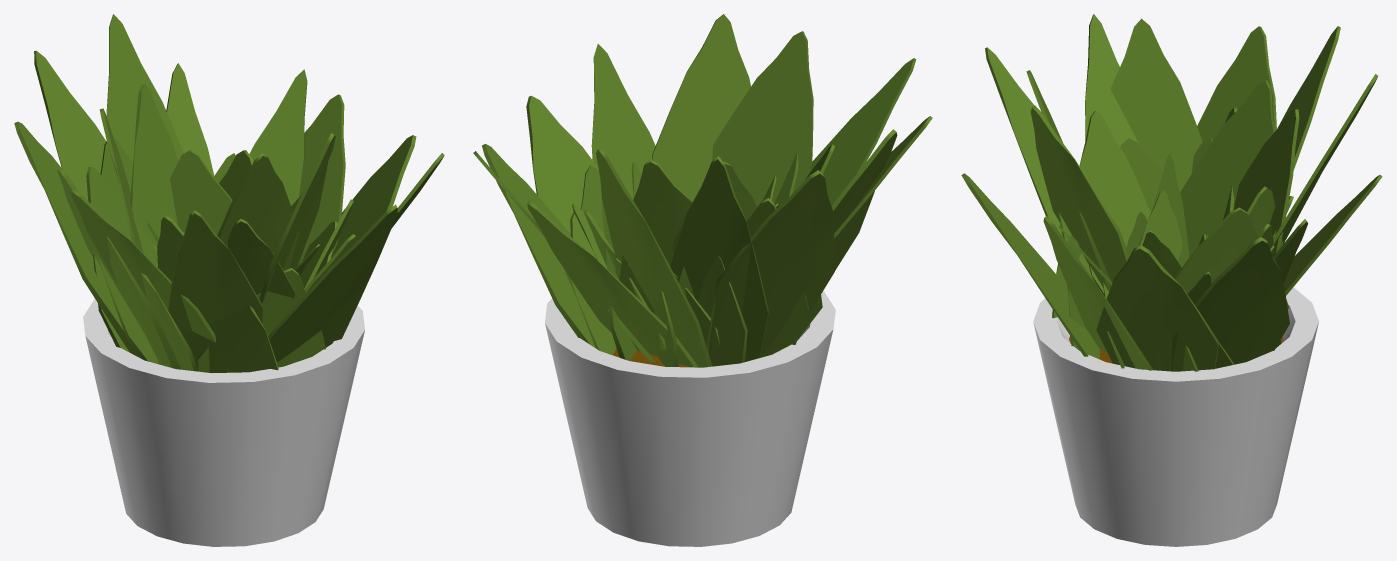
Rendered from plant.fbx.
3 renders of one model, left to right at view 1: azimuth 30°, elevation 25°; view 2: azimuth 150°, elevation 25°; view 3: azimuth 270°, elevation 25°, orthographic. The views are drawn at different scales.
Visible parts, largest first — view 1: pCylinder19; view 2: pCylinder19; view 3: pCylinder19.
Part boxes in pixels (x1=…): pCylinder19: x1=14, y1=14, x2=444, y2=546; pCylinder19: x1=473, y1=14, x2=932, y2=546; pCylinder19: x1=961, y1=14, x2=1382, y2=546.
Bounding box in the file's own units: 312 × 344 × 306.
